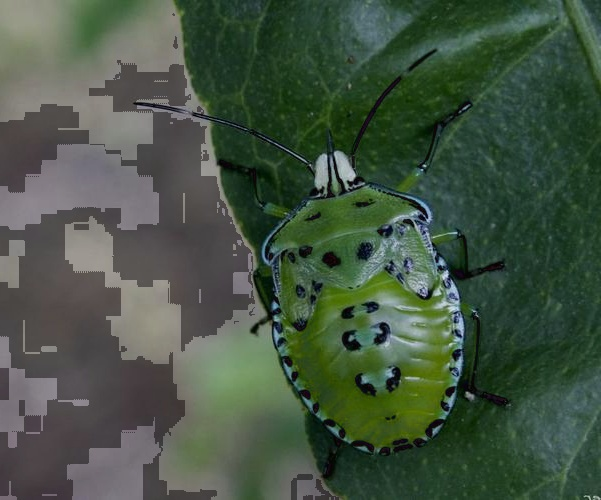Stink_Bug: (268, 114, 460, 446)
